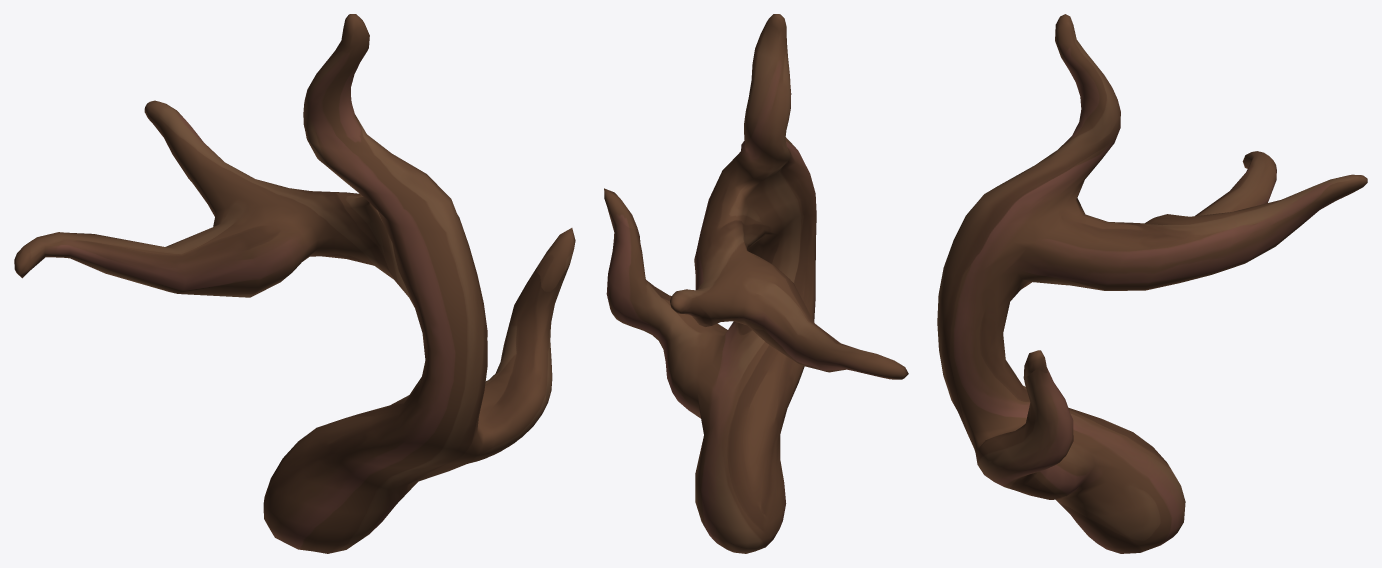
Rendered from AngelBranch3_Model.fbx.
3 views of the same model, side by side, from view 1: azimuth 30°, elevation 25°; view 2: azimuth 150°, elevation 25°; view 3: azimuth 270°, elevation 25° (orthographic). The views are drawn at different scales.
Visible parts, largest first — view 1: AngelBranch3; view 2: AngelBranch3; view 3: AngelBranch3.
Part boxes in pixels (x1,y1,x2,y2): AngelBranch3: (14, 14, 575, 553); AngelBranch3: (604, 14, 908, 553); AngelBranch3: (937, 14, 1367, 553).
Bounding box in the file's own units: 346 × 416 × 305.
1 material, 1 textured.
